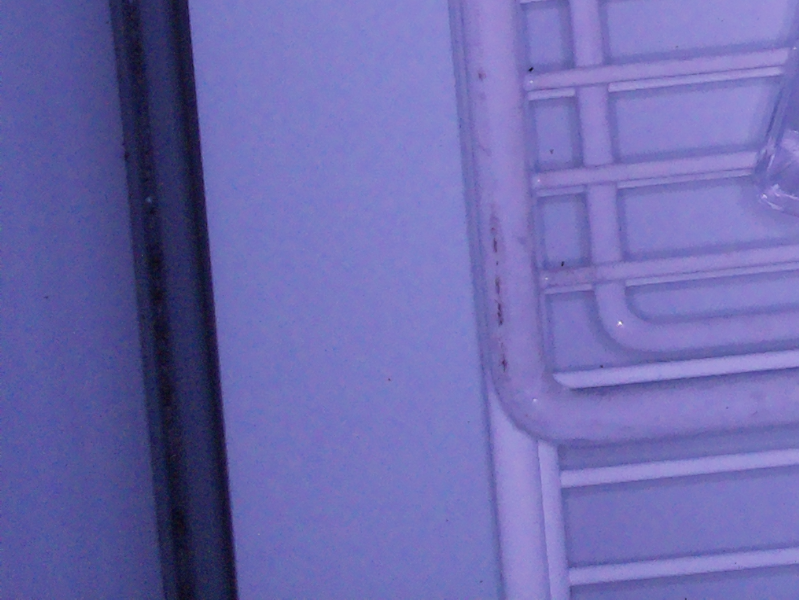plate: (750, 48, 799, 216)
